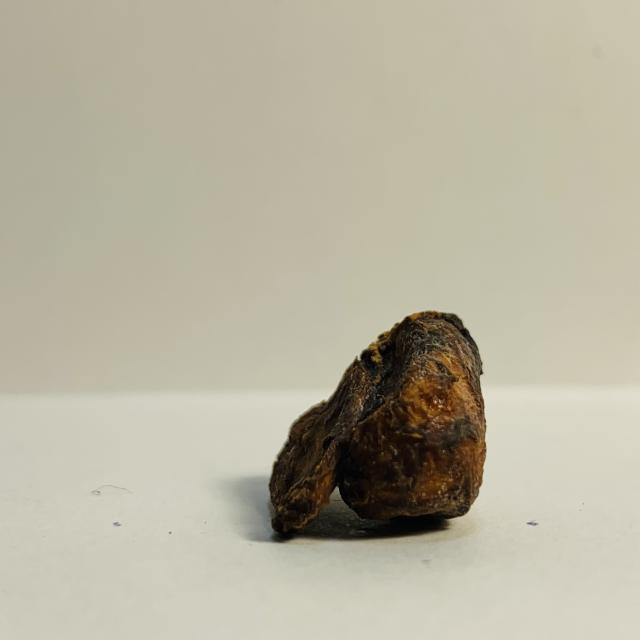Agglomerated_cocoabeans: (126, 282, 623, 570)
